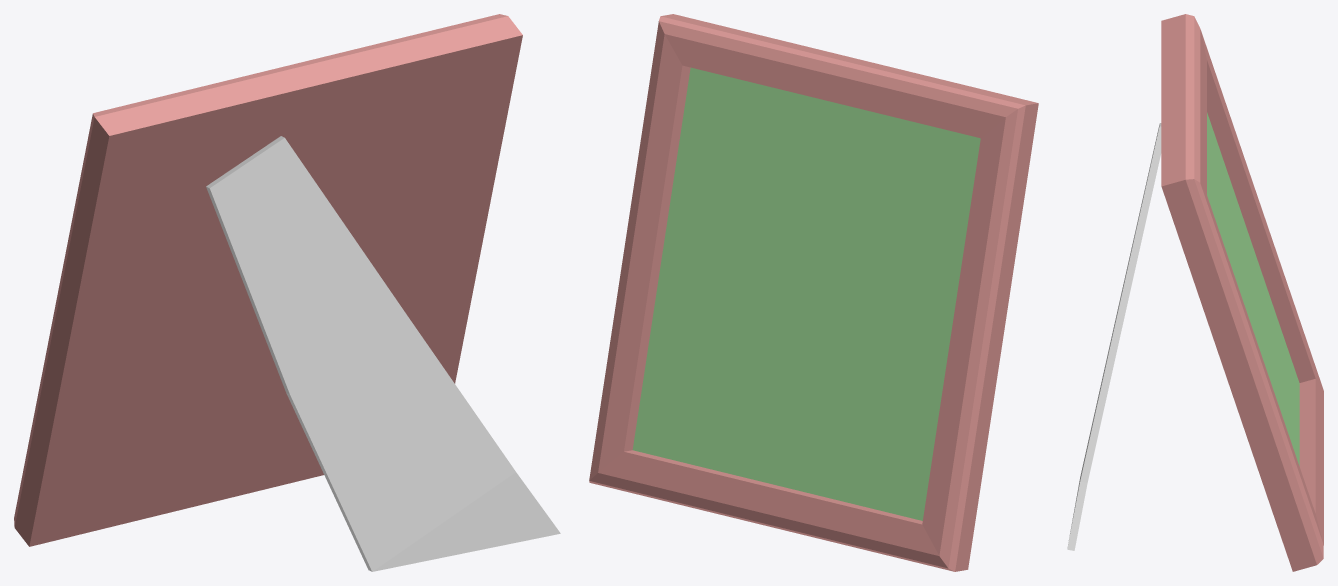
The model's file is SM_Frame.fbx.
3 renders of one model, left to right at view 1: azimuth 30°, elevation 25°; view 2: azimuth 150°, elevation 25°; view 3: azimuth 270°, elevation 25°, orthographic. The views are drawn at different scales.
Parts seen in each view (by area): view 1: Plane.001, Plane.002; view 2: Plane.001; view 3: Plane.001, Plane.002.
Boxes of the visible parts, box(x1,y1,x2,y2) form: Plane.001: box(14, 14, 522, 546); Plane.002: box(206, 136, 560, 571); Plane.001: box(589, 14, 1038, 571); Plane.001: box(1161, 14, 1323, 571); Plane.002: box(1067, 123, 1161, 550).
Bounding box in the file's own units: 0.5188 × 0.5726 × 0.3396.
